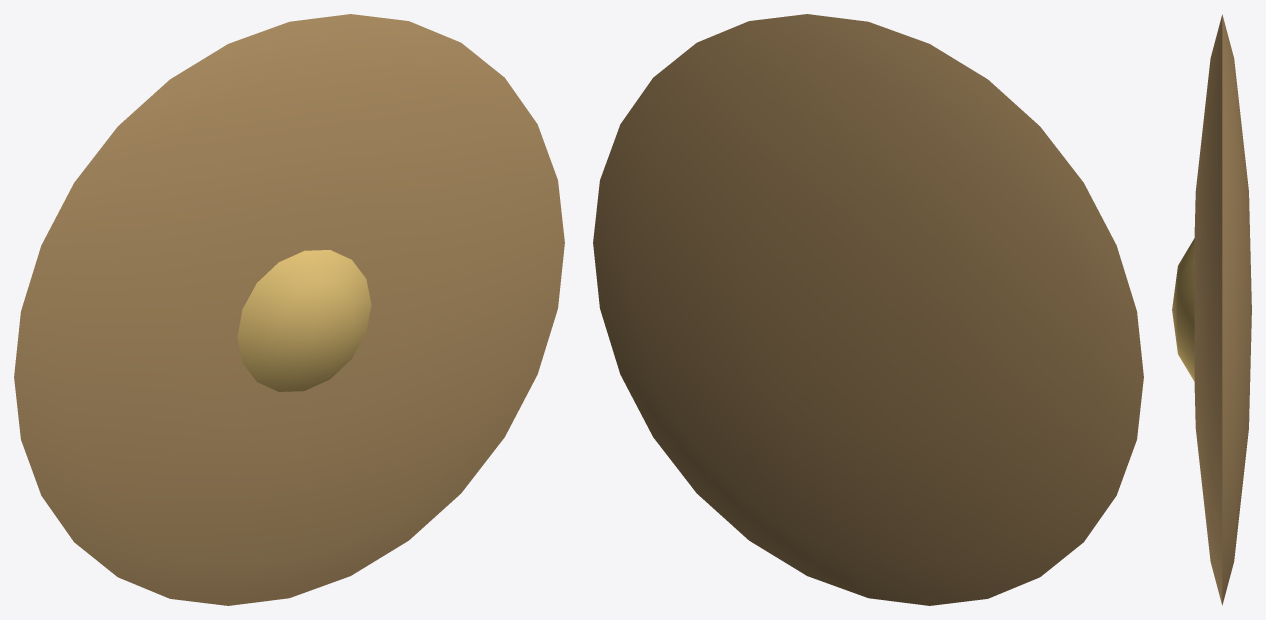
Rendered from phaleros.glb.
3 views of the same model, side by side, from view 1: azimuth 30°, elevation 25°; view 2: azimuth 150°, elevation 25°; view 3: azimuth 270°, elevation 25° (orthographic). The views are drawn at different scales.
Parts seen in each view (by area): view 1: phaleros; view 2: phaleros; view 3: phaleros.
Part boxes in pixels (x1,y1,x2,y2): phaleros: (14, 14, 564, 605); phaleros: (593, 14, 1143, 605); phaleros: (1172, 14, 1251, 605).
Size of the model in its own units: 0.4 by 0.4 by 0.054.
